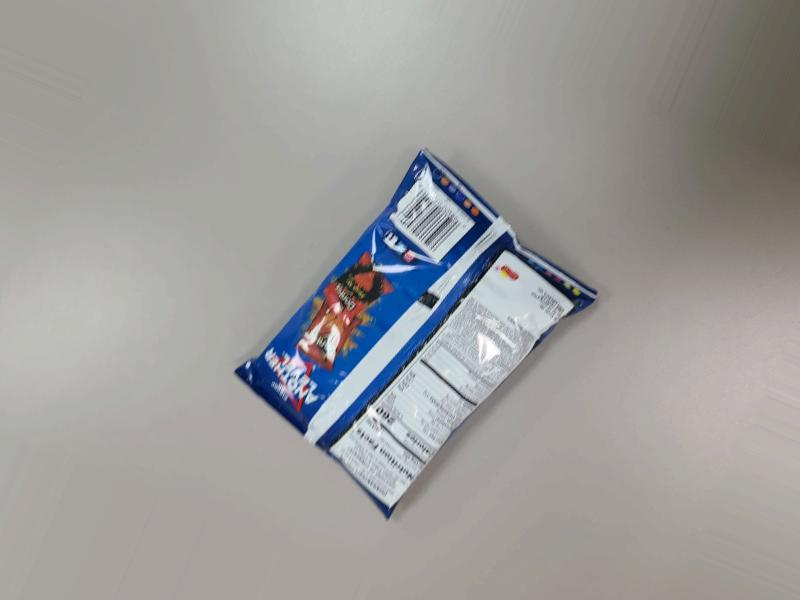doritos: (254, 136, 609, 527)
